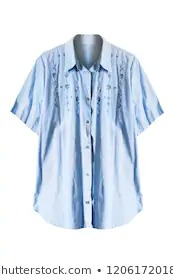C_short blouse: (10, 35, 164, 229)
